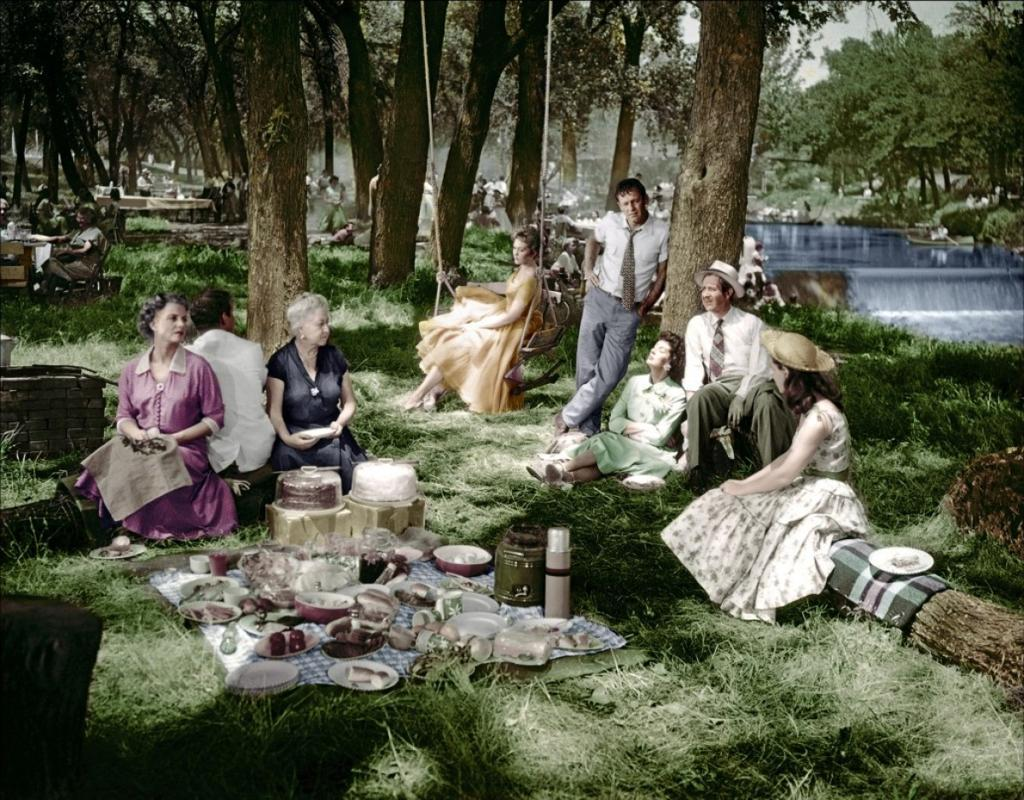face: (160, 306, 186, 344), (304, 312, 330, 347), (701, 277, 726, 311), (620, 193, 644, 223), (647, 340, 668, 370), (771, 359, 785, 393), (513, 244, 529, 265), (77, 213, 87, 228), (1, 204, 9, 220), (568, 243, 579, 254), (36, 206, 44, 220)
